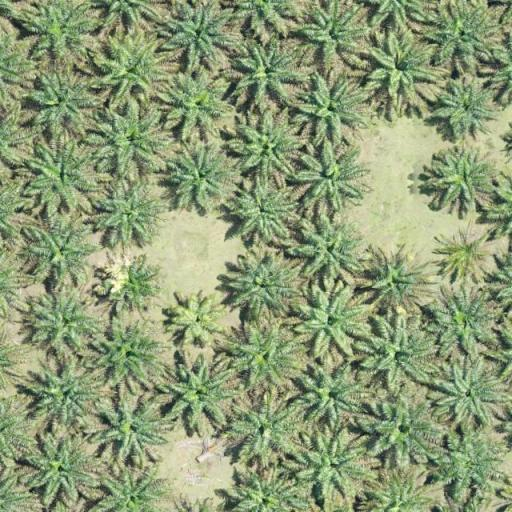Ganoderma: (447, 236, 484, 267)
